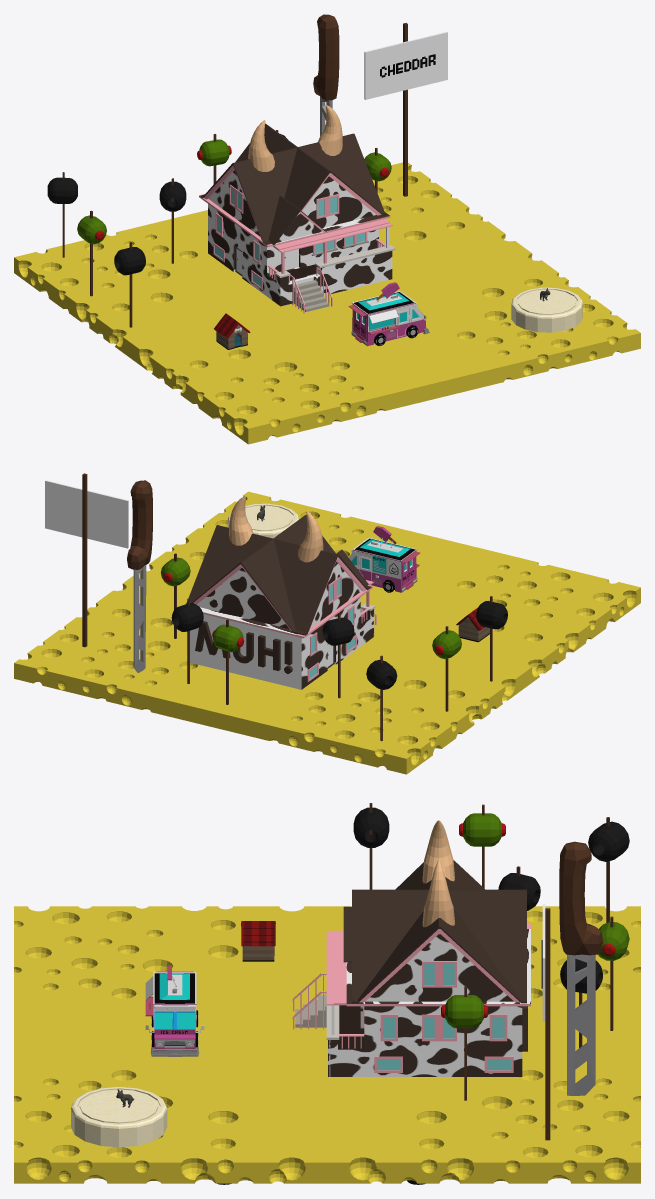
The picture shows the model from 3 angles, top to bottom: view 1: azimuth 30°, elevation 25°; view 2: azimuth 150°, elevation 25°; view 3: azimuth 270°, elevation 25°; orthographic projection. The views are drawn at different scales.
Parts seen in each view (by area): view 1: Cube.022, Cube.1242, Cube.023, VEHICLES_ICE_CREAM_TRUCK, Cylinder.016, Cube.024, Sphere.017, Sphere.016, OBJRANDOM_DOGHOUSE, Sphere.020, Sphere.018, Sphere.022 (+1 smaller); view 2: Cube.022, Cube.1242, Cube.023, Cube.024, VEHICLES_ICE_CREAM_TRUCK, Cylinder.016, Sphere.017, Sphere.020, Sphere.021, Sphere.016, Sphere.018, Sphere.022 (+2 smaller); view 3: Cube.022, Cube.1242, Cube.024, Cylinder.016, VEHICLES_ICE_CREAM_TRUCK, Cube.023, Sphere.019, Sphere.016, Sphere.018, OBJRANDOM_DOGHOUSE, Sphere.017, Sphere.022 (+2 smaller).
Boxes of the visible parts, <box> form: Cube.022: <box>14,162,640,444</box>; Cube.1242: <box>199,105,395,313</box>; Cube.023: <box>364,23,447,196</box>; VEHICLES_ICE_CREAM_TRUCK: <box>348,282,429,346</box>; Cylinder.016: <box>511,287,582,332</box>; Cube.024: <box>313,14,339,135</box>; Sphere.017: <box>114,242,145,327</box>; Sphere.016: <box>47,172,77,257</box>; OBJRANDOM_DOGHOUSE: <box>214,313,250,349</box>; Sphere.020: <box>159,178,186,263</box>; Sphere.018: <box>77,210,106,296</box>; Sphere.022: <box>197,134,231,183</box>; Cube.022: <box>14,491,640,774</box>; Cube.1242: <box>185,496,376,689</box>; Cube.023: <box>45,473,128,647</box>; Cube.024: <box>127,480,152,672</box>; VEHICLES_ICE_CREAM_TRUCK: <box>348,526,420,592</box>; Cylinder.016: <box>228,503,298,538</box>; Sphere.017: <box>476,596,507,681</box>; Sphere.020: <box>322,612,354,698</box>; Sphere.021: <box>171,598,203,683</box>; Sphere.016: <box>366,655,397,741</box>; Sphere.018: <box>432,626,461,711</box>; Sphere.022: <box>212,619,244,704</box>; Cube.022: <box>14,906,640,1183</box>; Cube.1242: <box>292,820,530,1076</box>; Cube.024: <box>559,841,602,1095</box>; Cylinder.016: <box>71,1086,167,1147</box>; VEHICLES_ICE_CREAM_TRUCK: <box>145,965,204,1056</box>; Cube.023: <box>541,904,550,1140</box>; Sphere.019: <box>441,986,487,1100</box>; Sphere.016: <box>588,817,629,922</box>; Sphere.018: <box>459,804,505,888</box>; OBJRANDOM_DOGHOUSE: <box>241,921,275,961</box>; Sphere.017: <box>353,803,389,889</box>; Sphere.022: <box>598,916,629,1030</box>.
Size of the model in its own units: 3917 by 1985 by 4000.
53 materials, 3 textured.
